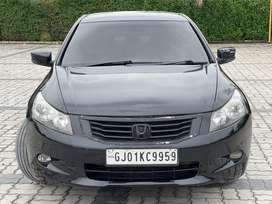GJ01KC9959: (105, 149, 177, 165)
